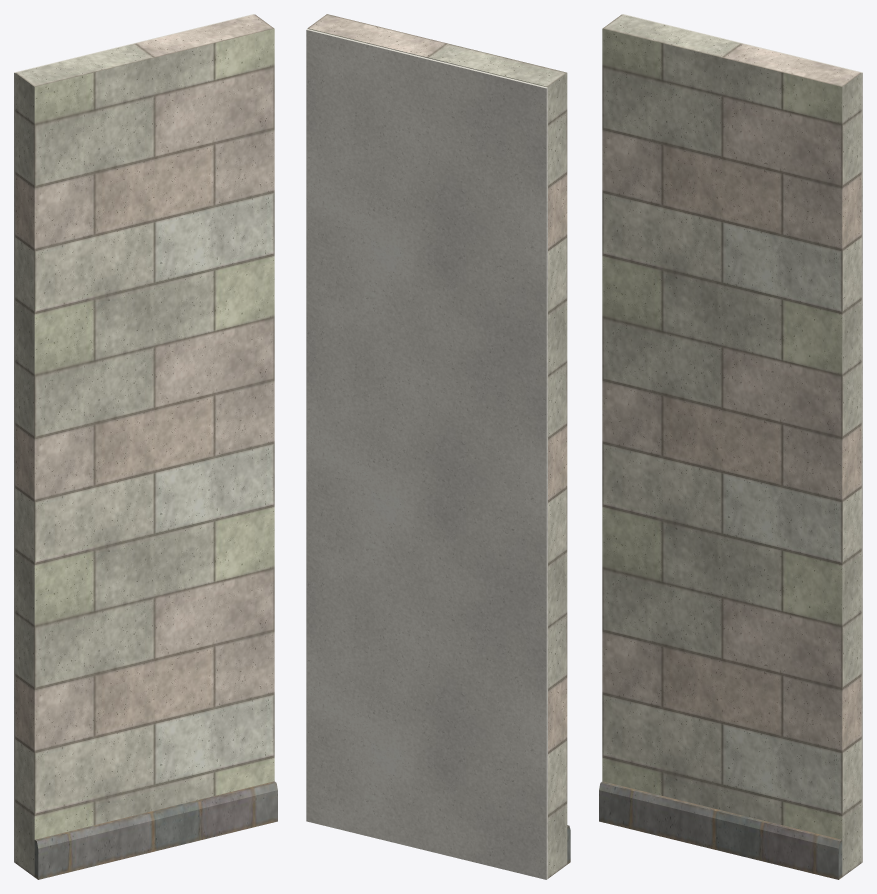
File: f_plain.glb
3 renders of one model, left to right at view 1: azimuth 30°, elevation 25°; view 2: azimuth 150°, elevation 25°; view 3: azimuth 330°, elevation 25°, orthographic.
Parts seen in each view (by area): view 1: f_plain_stone, f_plain_granite, f_plain_plaster; view 2: f_plain_plaster, f_plain_stone; view 3: f_plain_stone, f_plain_granite, f_plain_plaster.
Part boxes in pixels (x1=…): f_plain_stone: x1=15, y1=14, x2=274, y2=876; f_plain_granite: x1=34, y1=781, x2=277, y2=879; f_plain_plaster: x1=14, y1=14, x2=253, y2=862; f_plain_plaster: x1=306, y1=29, x2=547, y2=879; f_plain_stone: x1=307, y1=14, x2=567, y2=878; f_plain_stone: x1=602, y1=14, x2=861, y2=876; f_plain_granite: x1=599, y1=781, x2=842, y2=879; f_plain_plaster: x1=623, y1=14, x2=862, y2=862.
Bounding box in the file's own units: 2 × 6.3 × 0.35.
Materials: 3 (3 with a texture image).
